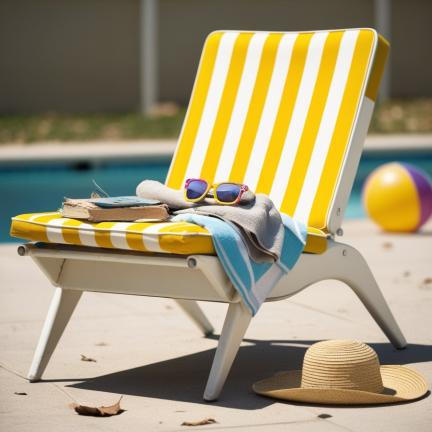occupied chair: (11, 29, 406, 400)
